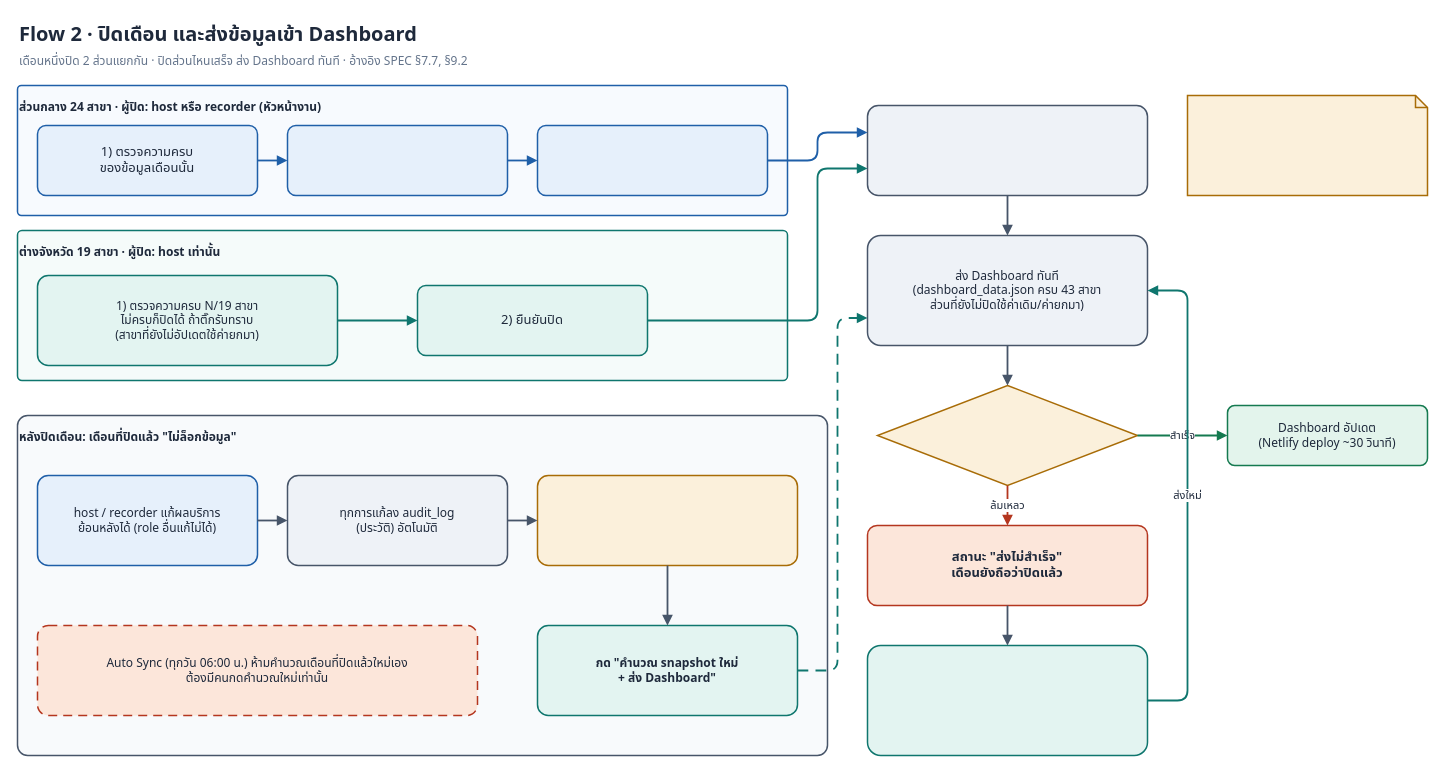
This 1455x773 diagram has some shape labels left out. Each missing label, with the centre of its shape:
"อัพเดทข้อมูลครบทุกสาขา" = ปิดครบทั้ง 2 ส่วนของเดือนนั้น: point (1307, 145)
2) ตรวจรายการตกบริการ + ติ๊กรับทราบ: point (397, 160)
3) พิมพ์ key เดือน เช่น OCT.26 เพื่อยืนยัน: point (652, 160)
Dashboard ยังแสดง snapshot เดิมของเดือนนั้น: point (667, 520)
กดส่งใหม่ได้ หรือรอ Auto Sync ทุกวัน 06:00 น. (cron 0 23 * * * UTC) ลองซ้ำ: point (1007, 700)
บันทึกการปิดเดือน + เก็บ snapshot ตัวเลข: point (1007, 150)
ส่งสำเร็จ?: point (1007, 435)
